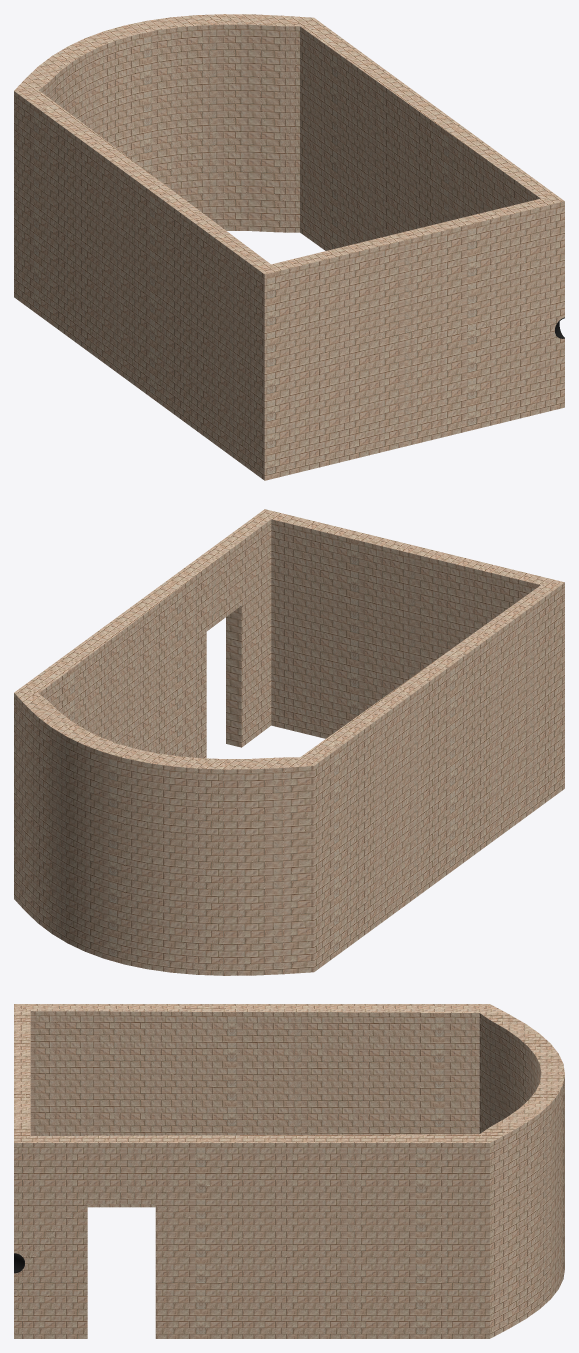
The model's file is Kaaba01.FBX.
3 views of the same model, one above another, from view 1: azimuth 30°, elevation 25°; view 2: azimuth 150°, elevation 25°; view 3: azimuth 270°, elevation 25° (orthographic). The views are drawn at different scales.
Visible parts, largest first — view 1: Kaaba01; view 2: Kaaba01; view 3: Kaaba01.
Part boxes in pixels (x1,y1,x2,y2): Kaaba01: (14, 14, 564, 480); Kaaba01: (14, 509, 564, 975); Kaaba01: (14, 1004, 564, 1338).
Bounding box in the file's own units: 1192 × 1997 × 783.
2 materials, 1 textured.
